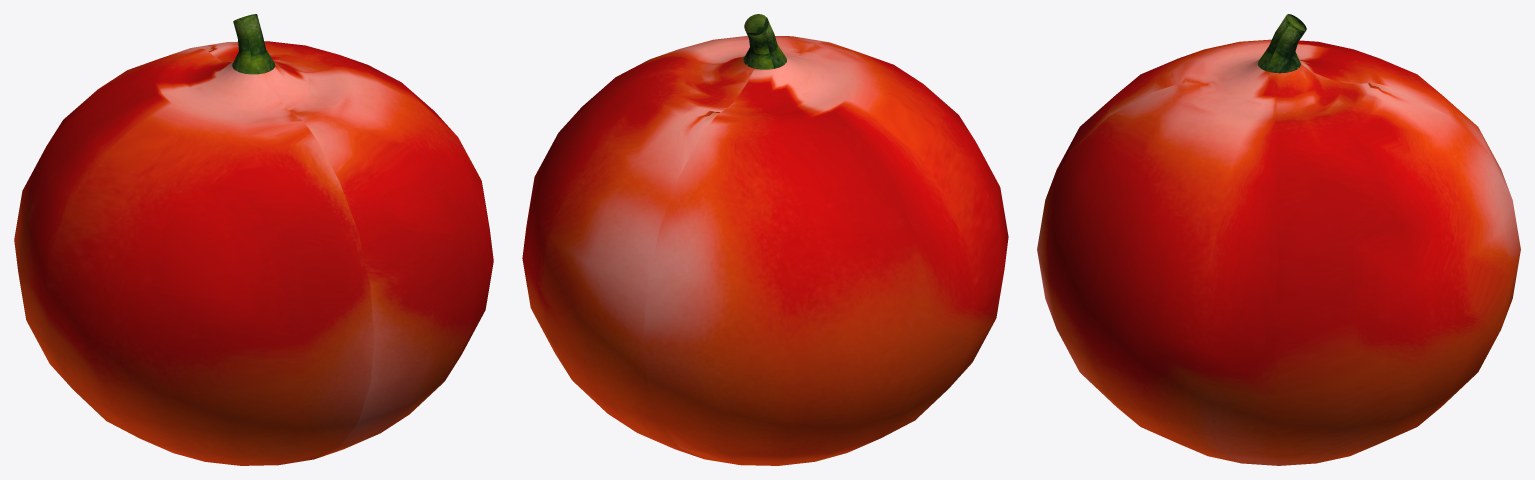
File: tomat.fbx
3 renders of one model, left to right at view 1: azimuth 30°, elevation 25°; view 2: azimuth 150°, elevation 25°; view 3: azimuth 270°, elevation 25°, orthographic.
Visible parts, largest first — view 1: Sphere; view 2: Sphere; view 3: Sphere.
Part boxes in pixels (x1,y1,x2,y2): Sphere: (14,14,493,465); Sphere: (522,14,1008,465); Sphere: (1037,14,1520,465).
Bounding box in the file's own units: 196 × 189 × 196.
